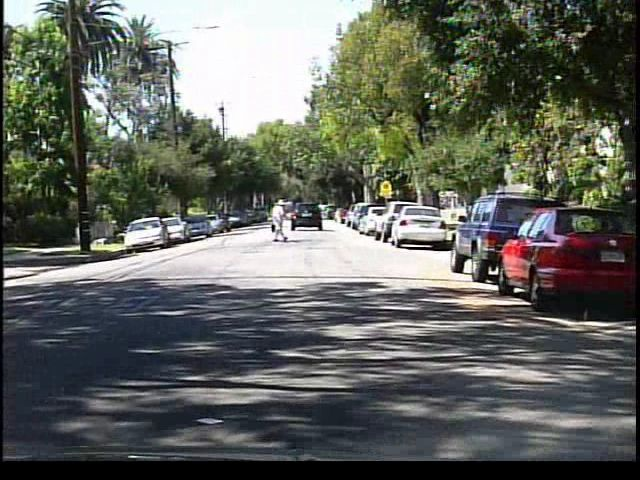person: (267, 194, 293, 243)
